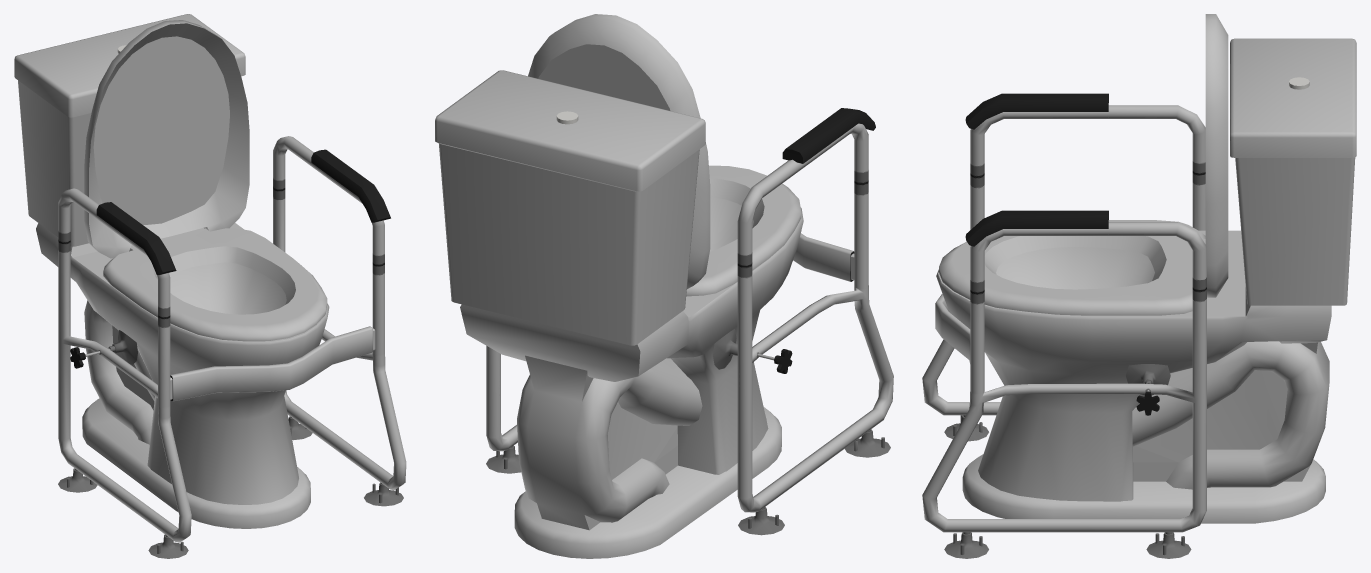
File: toilet_safety_frame_rail_combo.glb
3 views of the same model, side by side, from view 1: azimuth 30°, elevation 25°; view 2: azimuth 150°, elevation 25°; view 3: azimuth 270°, elevation 25° (orthographic). The views are drawn at different scales.
Parts seen in each view (by area): view 1: SM_ToiletSafetyFrameRail_Combo; view 2: SM_ToiletSafetyFrameRail_Combo; view 3: SM_ToiletSafetyFrameRail_Combo.
Boxes of the visible parts, <box> form: SM_ToiletSafetyFrameRail_Combo: <box>14,14,406,558</box>; SM_ToiletSafetyFrameRail_Combo: <box>435,14,893,558</box>; SM_ToiletSafetyFrameRail_Combo: <box>922,14,1356,558</box>.
Size of the model in its own units: 0.5679 by 0.9137 by 0.7643.
Materials: 2 (2 with a texture image).
